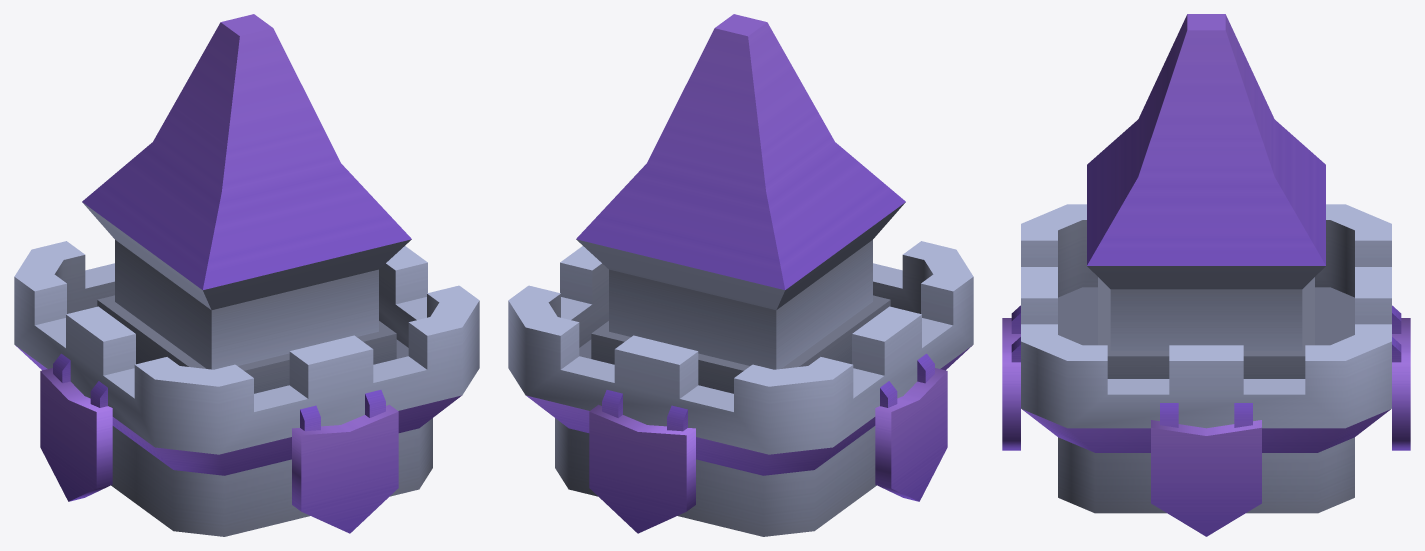
Rendered from tower-square-roof-a.fbx.
3 views of the same model, side by side, from view 1: azimuth 30°, elevation 25°; view 2: azimuth 150°, elevation 25°; view 3: azimuth 270°, elevation 25° (orthographic).
Visible parts, largest first — view 1: tower-square-roof-a; view 2: tower-square-roof-a; view 3: tower-square-roof-a.
Part boxes in pixels (left/top/right/bottom): tower-square-roof-a: left=14, top=14, right=479, bottom=536; tower-square-roof-a: left=508, top=14, right=973, bottom=536; tower-square-roof-a: left=1002, top=14, right=1410, bottom=536.
Size of the model in its own units: 110 by 128 by 110.
